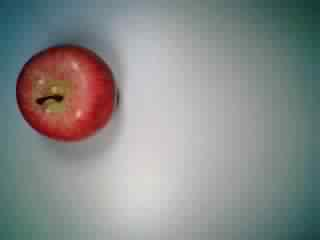apple: (16, 42, 120, 143)
